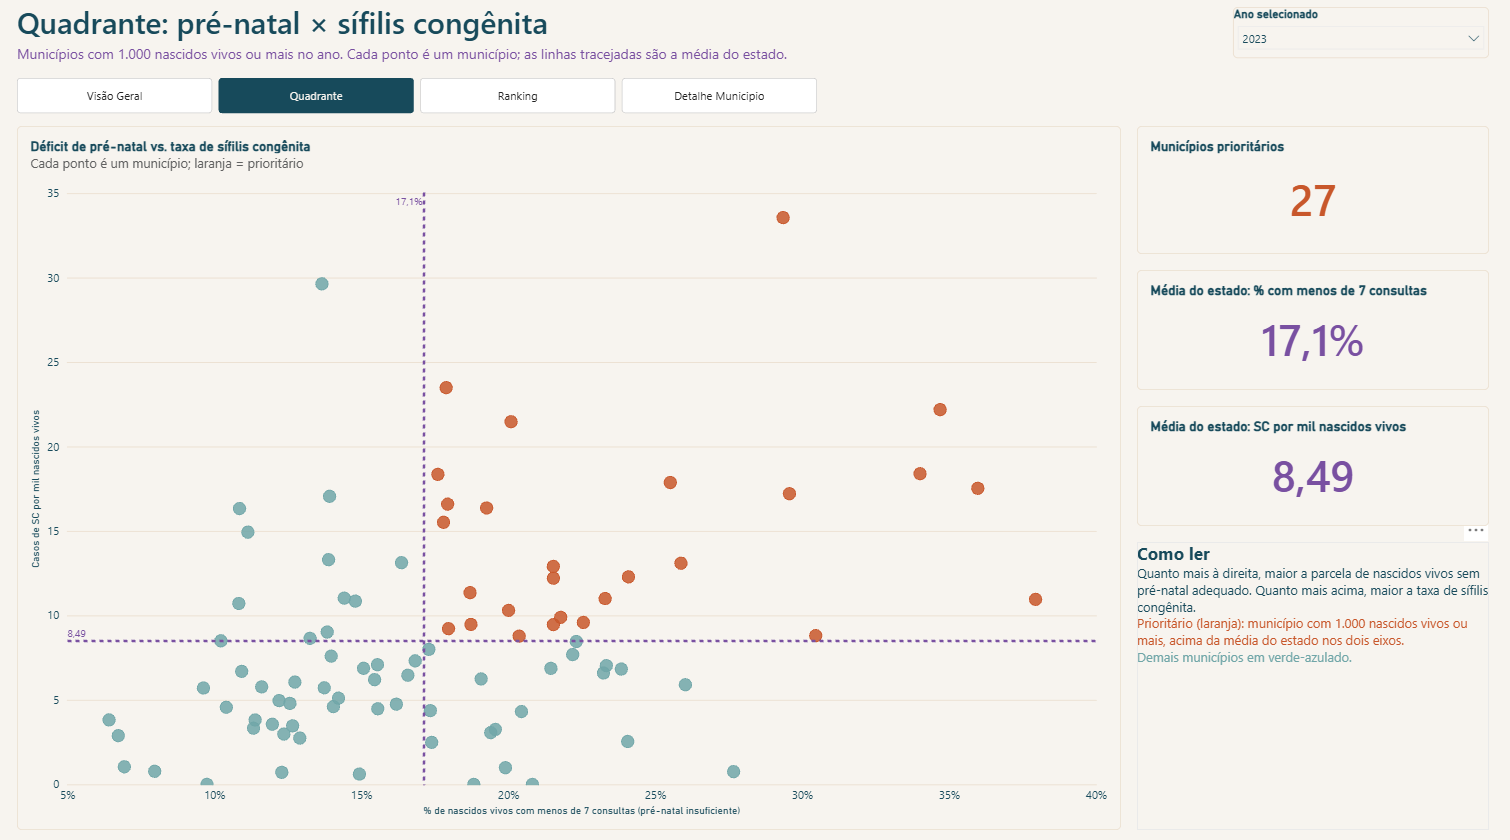

What the dashboard file says about the page in this screenshot:
{"tool":"powerbi","page":{"name":"Quadrante","canvas":[1920,1080],"ordinal":1},"visuals":[{"type":"textbox","box":[40,70,1400,30],"z":0},{"type":"textbox","box":[1440,692,440,360],"z":1000},{"type":"textbox","box":[40,18,1300,56],"z":2000},{"type":"pageNavigator","box":[40,112,1000,44],"z":3000},{"type":"slicer","title":"Ano selecionado","fields":{"Values":["tabela_final.ano"]},"box":[1560,24,320,64],"z":4000},{"type":"scatterChart","title":"Déficit de pré-natal vs. taxa de sífilis congênita","fields":{"Category":["tabela_final.municipio"],"X":["tabela_final.% Menos 7 Consultas"],"Y":["tabela_final.Taxa Sifilis por Mil"]},"box":[40,172,1380,880],"z":5000},{"type":"card","title":"Municípios prioritários","fields":{"Values":["tabela_final.Nº Prioritários"]},"box":[1440,172,440,160],"z":6000},{"type":"card","title":"Média do estado: % com menos de 7 consultas","fields":{"Values":["tabela_final.Média Estado % Menos 7"]},"box":[1440,352,440,150],"z":7000},{"type":"card","title":"Média do estado: SC por mil nascidos vivos","fields":{"Values":["tabela_final.Média Estado Taxa"]},"box":[1440,522,440,150],"z":8000}]}

Visuals, with their boxes in screenshot pixels (x1, y1, x2, y2), scaled from the page's 1920x1080 canvas onto the 1510x840 screenshot:
textbox: BBox(31, 54, 1132, 78)
textbox: BBox(1132, 538, 1479, 818)
textbox: BBox(31, 14, 1054, 58)
pageNavigator: BBox(31, 87, 818, 121)
"Ano selecionado" slicer: BBox(1227, 19, 1479, 68)
"Déficit de pré-natal vs. taxa de sífilis congênita" scatterChart: BBox(31, 134, 1117, 818)
"Municípios prioritários" card: BBox(1132, 134, 1479, 258)
"Média do estado: % com menos de 7 consultas" card: BBox(1132, 274, 1479, 390)
"Média do estado: SC por mil nascidos vivos" card: BBox(1132, 406, 1479, 523)
